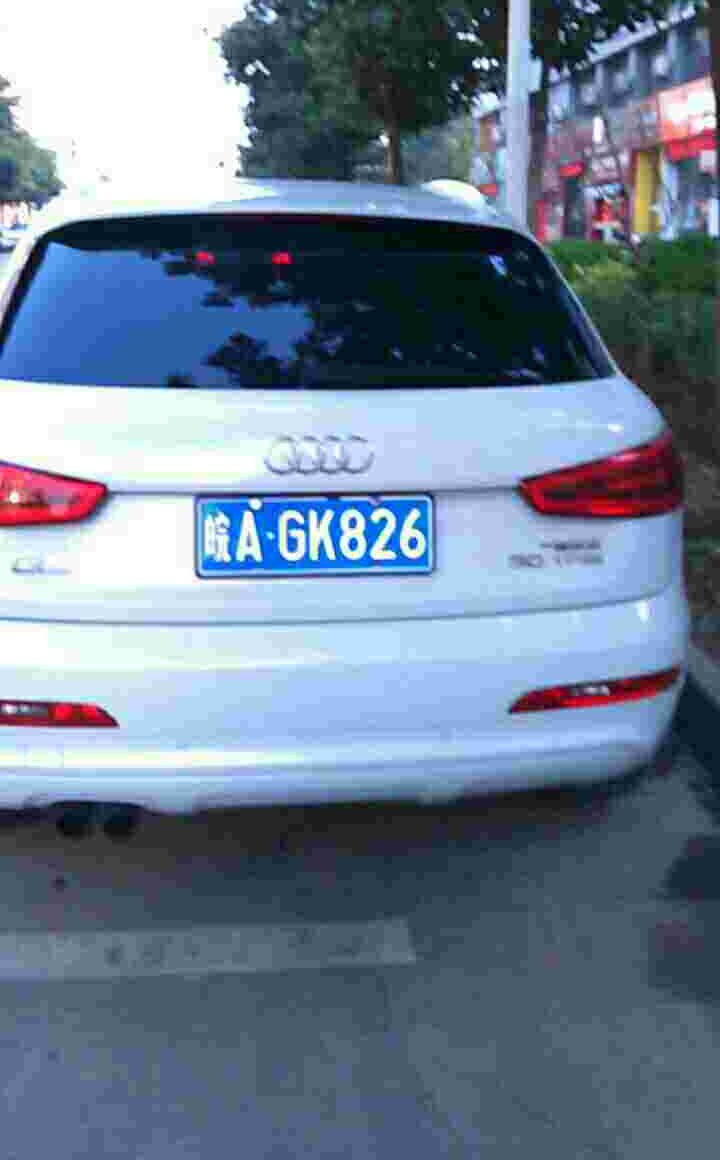license_plate: (190, 487, 456, 572)
